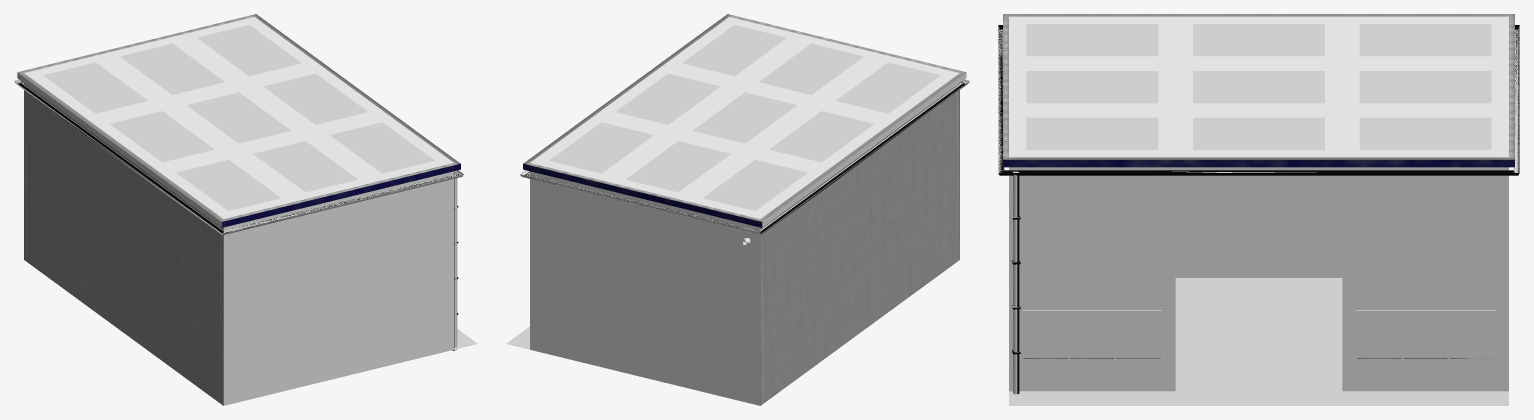
File: industrial_unit_low.glb
3 views of the same model, side by side, from view 1: azimuth 30°, elevation 25°; view 2: azimuth 150°, elevation 25°; view 3: azimuth 270°, elevation 25° (orthographic). The views are drawn at different scales.
Visible parts, largest first — view 1: Unit 3, Unit 3_Baked, Unit 3 roof.001, Unit 3 roof; view 2: Unit 3, Unit 3_Baked, Unit 3 roof.001, Unit 3 roof; view 3: Unit 3, Unit 3 roof.001, Unit 3 roof, Unit 3_Baked.
Boxes of the visible parts, x1=… form: Unit 3: x1=14, y1=72, x2=477, y2=405; Unit 3_Baked: x1=15, y1=14, x2=460, y2=405; Unit 3 roof.001: x1=43, y1=25, x2=434, y2=210; Unit 3 roof: x1=24, y1=17, x2=453, y2=218; Unit 3: x1=506, y1=72, x2=969, y2=405; Unit 3_Baked: x1=523, y1=14, x2=965, y2=405; Unit 3 roof.001: x1=549, y1=25, x2=940, y2=210; Unit 3 roof: x1=530, y1=17, x2=959, y2=218; Unit 3: x1=998, y1=26, x2=1519, y2=405; Unit 3 roof.001: x1=1026, y1=24, x2=1491, y2=149; Unit 3 roof: x1=1009, y1=16, x2=1508, y2=157; Unit 3_Baked: x1=998, y1=14, x2=1519, y2=394.
Bounding box in the file's own units: 27.98 × 19.46 × 38.74.
12 materials, 1 textured.
